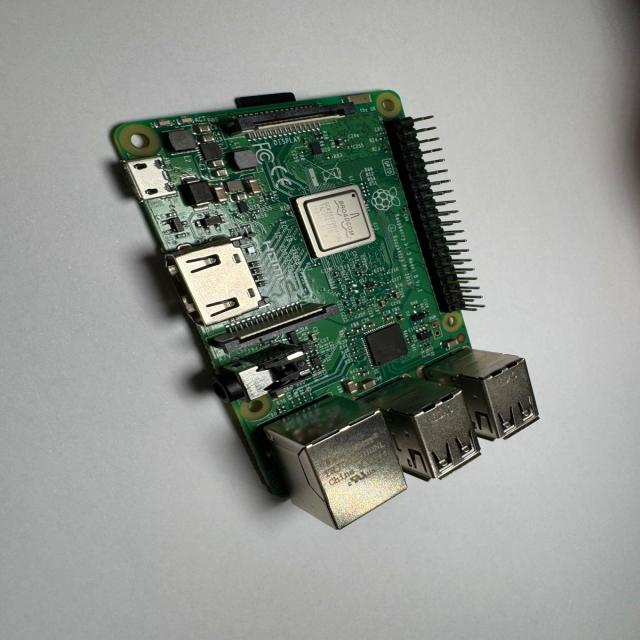CPU: (292, 186, 378, 261)
Ethernet: (274, 413, 406, 532)
GPIO: (385, 115, 486, 315)
HDMI: (164, 244, 265, 328)
RAM-3: (362, 323, 410, 368)
Raspberry: (108, 91, 540, 532)
